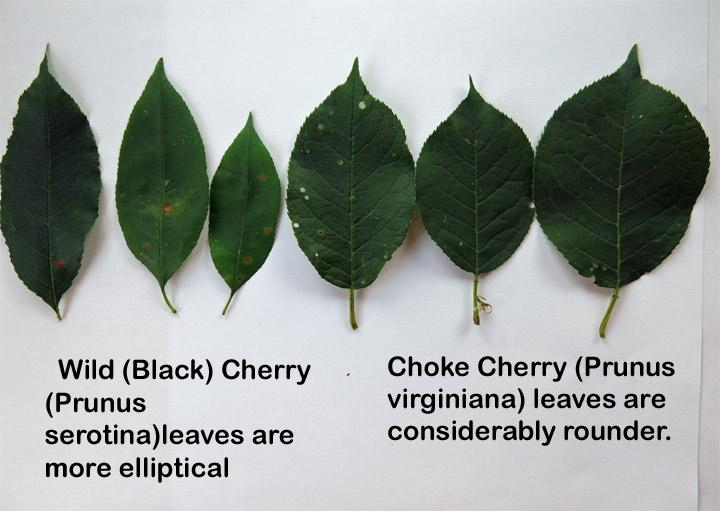Cherry leaf: (535, 32, 715, 303), (281, 47, 416, 354), (1, 47, 102, 339), (415, 50, 534, 278)
